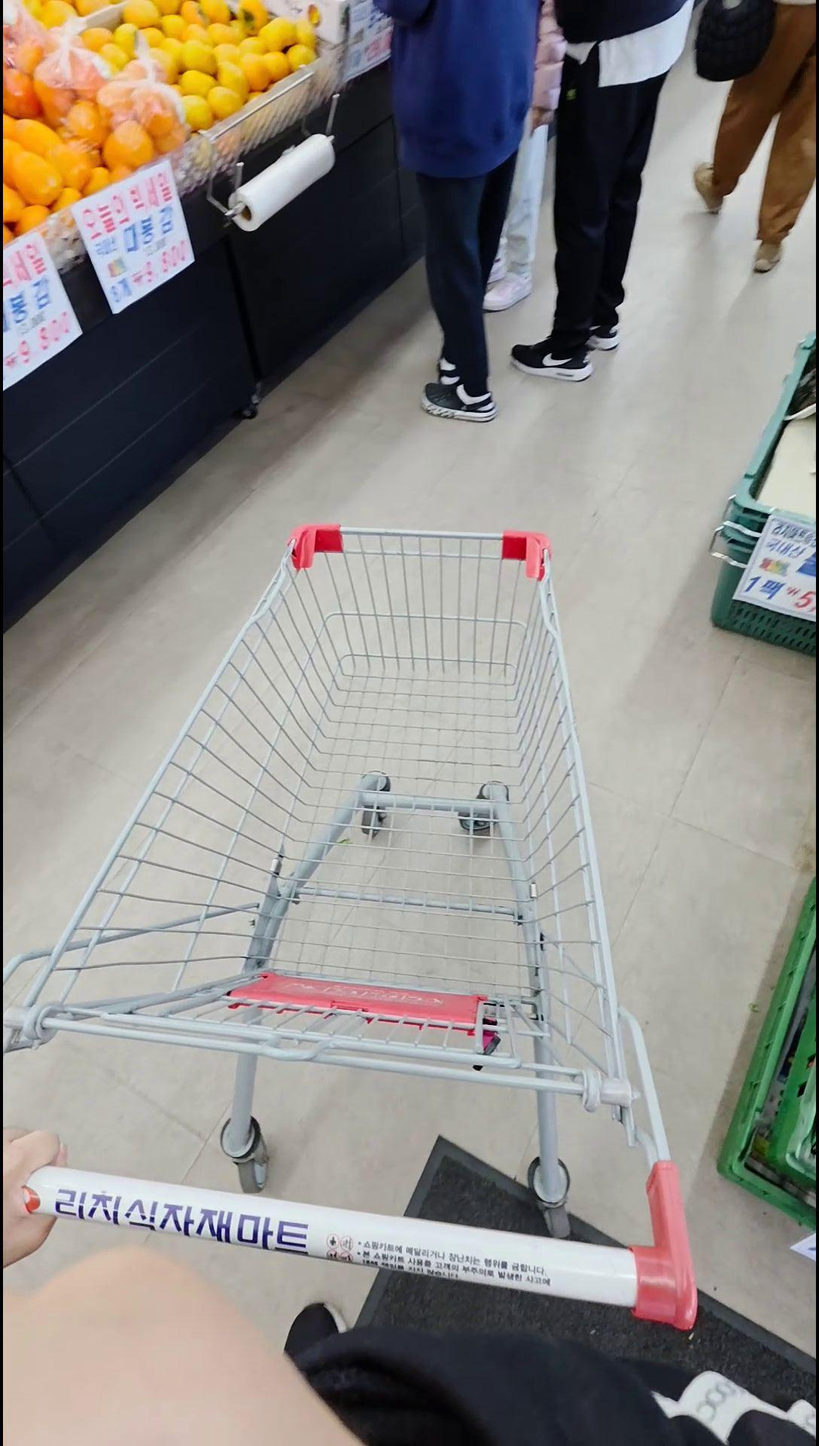empty_cart: (0, 528, 694, 1335)
